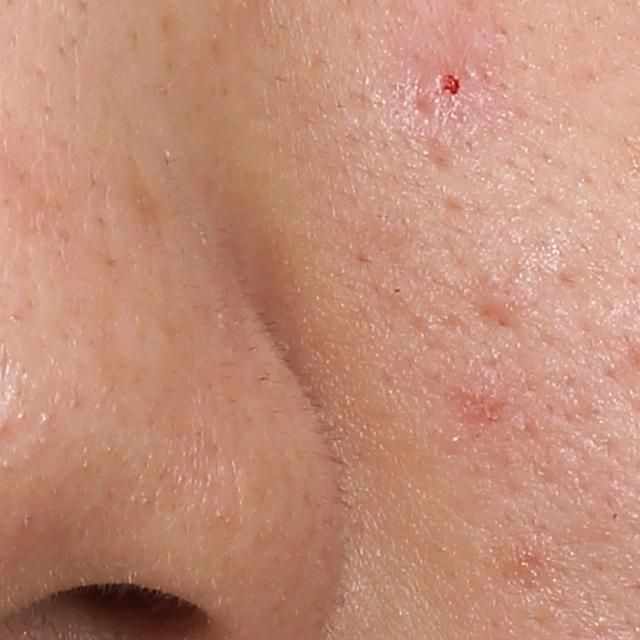atrophic_scar: (462, 291, 524, 335), (418, 135, 461, 174)
papule: (410, 57, 476, 124)
